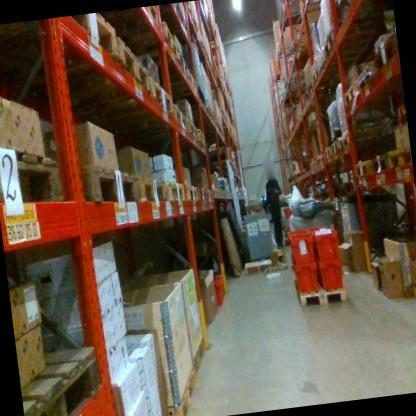pallet: (0, 126, 78, 223), (17, 337, 112, 416), (0, 11, 122, 71), (64, 149, 141, 215), (119, 27, 156, 108), (159, 358, 205, 416), (306, 48, 369, 89), (337, 118, 398, 153), (293, 276, 349, 314), (367, 27, 400, 79), (132, 165, 170, 208), (147, 67, 174, 119), (286, 30, 326, 58), (382, 137, 411, 169), (320, 29, 347, 62), (175, 66, 202, 99), (128, 6, 163, 31), (355, 61, 379, 97), (158, 17, 179, 57), (160, 174, 184, 208), (172, 96, 190, 138), (241, 257, 278, 277), (341, 81, 363, 109), (352, 154, 374, 182), (191, 341, 209, 375), (370, 146, 390, 176), (307, 145, 324, 176), (170, 45, 189, 72), (180, 182, 197, 208), (196, 121, 210, 152), (328, 133, 340, 162), (185, 111, 198, 136), (194, 184, 207, 205), (203, 187, 215, 208), (317, 149, 328, 168), (324, 145, 336, 162)
small_load_carrier: (307, 223, 345, 266), (287, 230, 317, 267), (292, 259, 321, 297), (318, 262, 349, 294), (208, 270, 230, 309)
